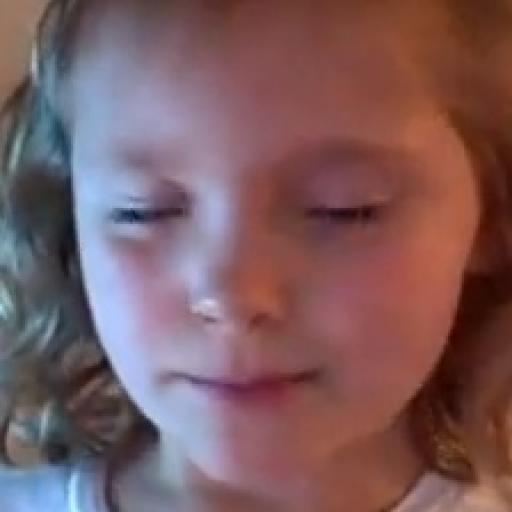Autism: (61, 2, 512, 505)
